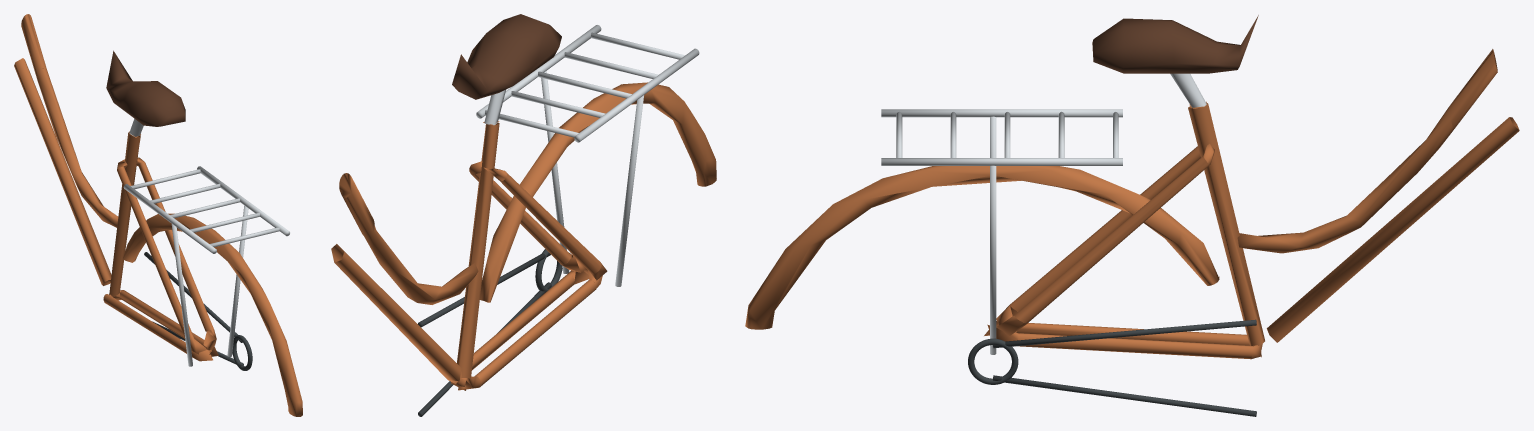
Rendered from Frame.fbx.
The picture shows the model from 3 angles, left to right: view 1: azimuth 30°, elevation 25°; view 2: azimuth 150°, elevation 25°; view 3: azimuth 270°, elevation 25°; orthographic projection. The views are drawn at different scales.
Visible parts, largest first — view 1: Frame; view 2: Frame; view 3: Frame.
Part boxes in pixels (box(x1,y1,x2,y2)): Frame: box(14, 14, 302, 416); Frame: box(331, 14, 716, 416); Frame: box(745, 15, 1519, 416).
Size of the model in its own units: 34.2 by 117 by 215.
